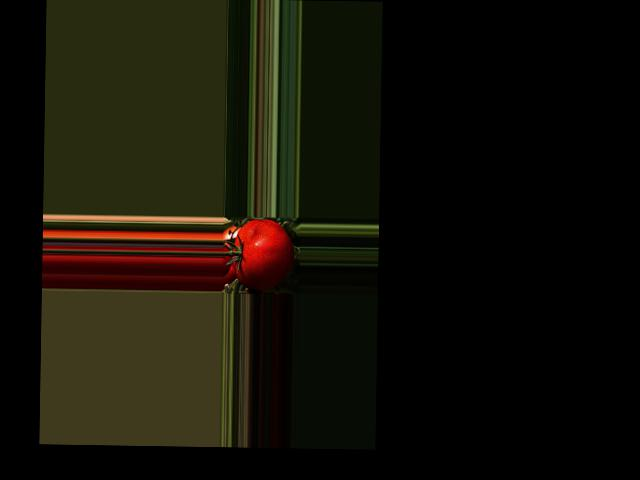tomato: (232, 218, 294, 290)
